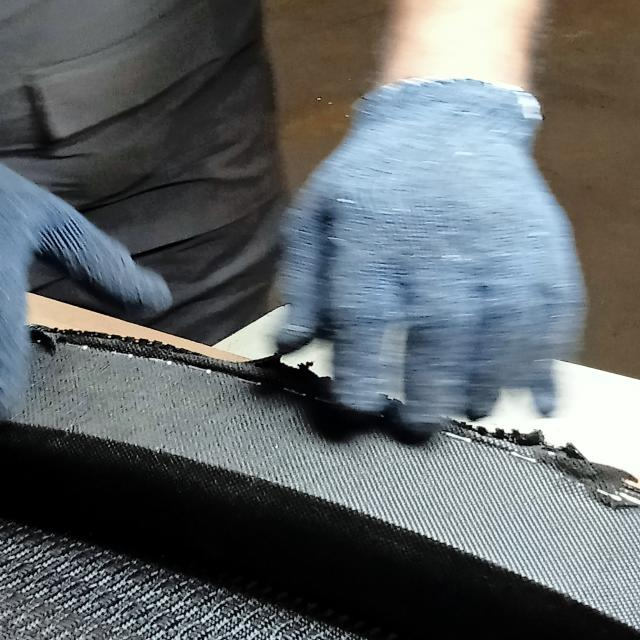Gloves-Detection: (316, 71, 580, 428), (0, 165, 157, 402)
